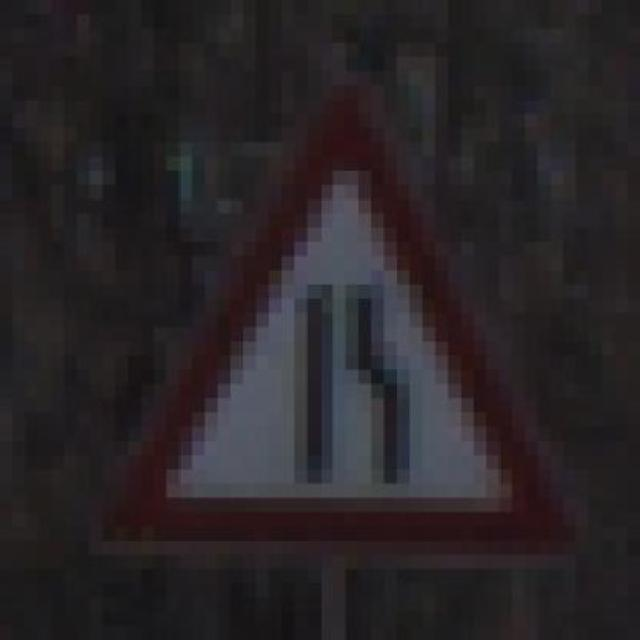-Road narrows on right: (77, 71, 601, 583)
